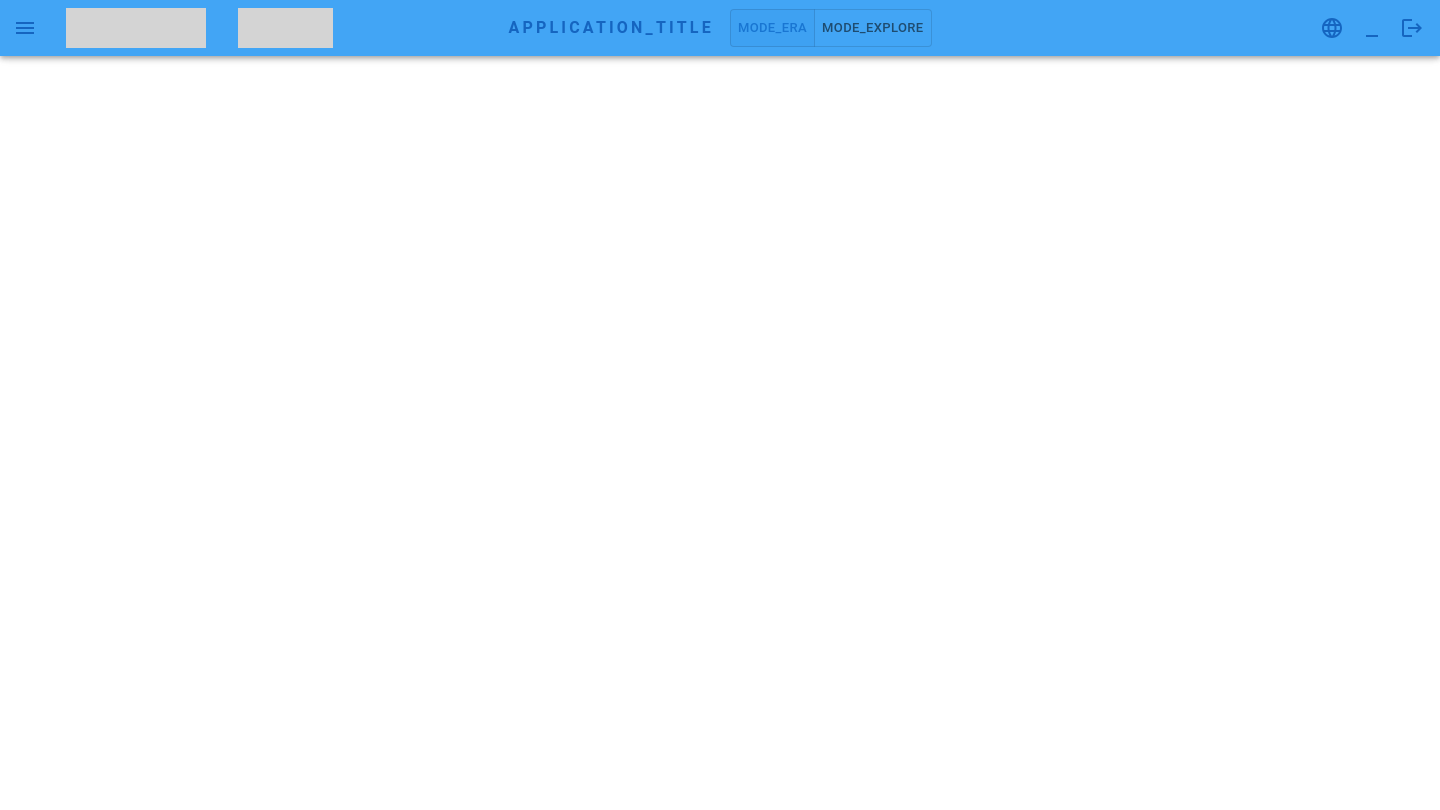
TopBar mode toggle + confirm dialog › opens the dialog when the user toggles to a different mode
The image size is (1440, 810).
Click the button "mode_explore": [873, 28] box [814,9,932,47]
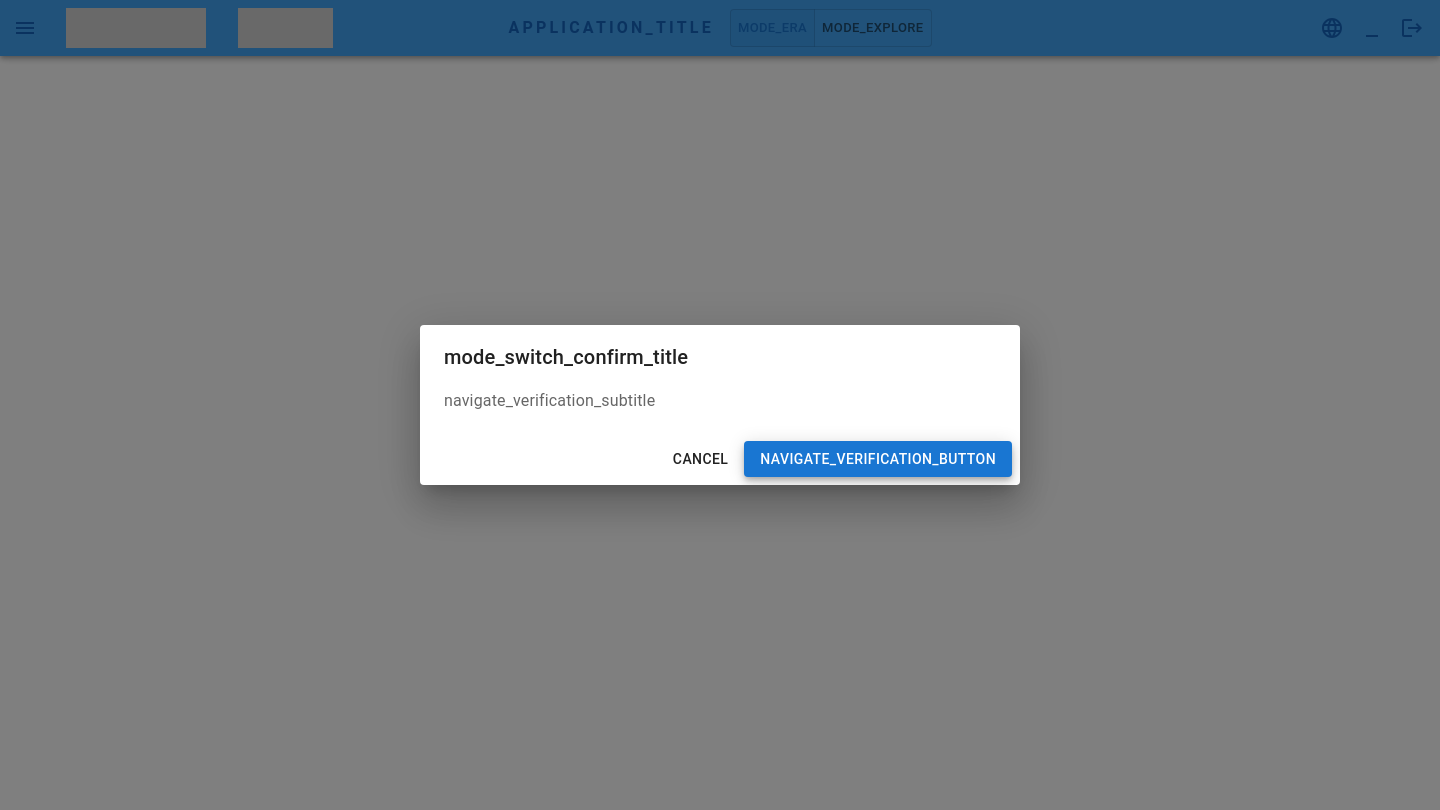
Expected: the dialog is shown, [420,325,1020,485]
Expected: the heading "mode_switch_confirm_title" is shown, [444,345,688,369]
Expected: the text "navigate_verification_subtitle" is shown, [444,391,655,410]
